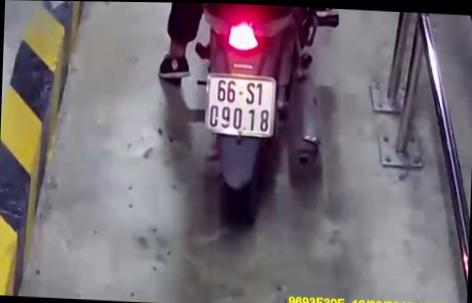LP: (204, 71, 278, 138)
